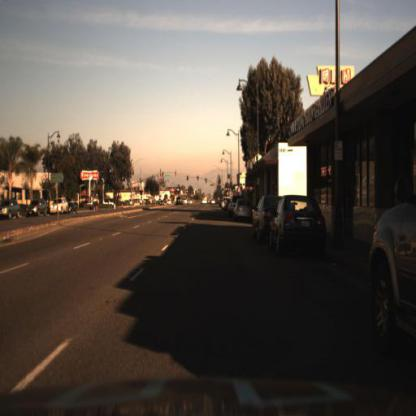car: (370, 198, 416, 361), (266, 193, 327, 266), (249, 190, 283, 249), (231, 199, 254, 225), (49, 195, 72, 216), (50, 196, 69, 217), (29, 200, 50, 216)
